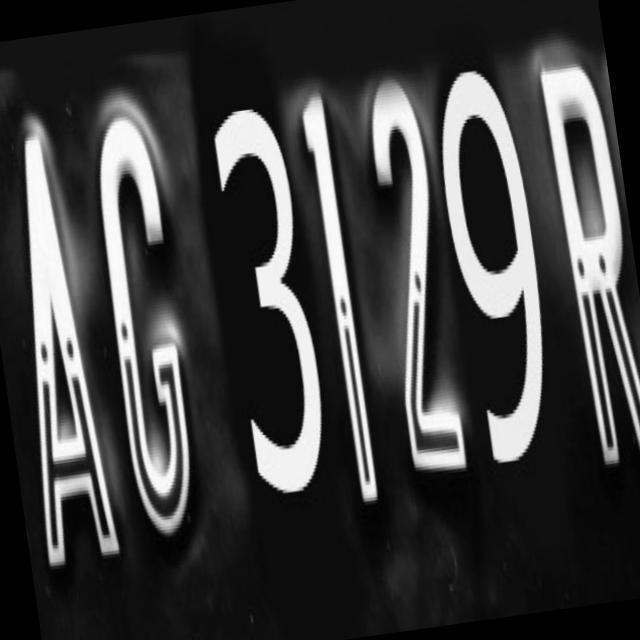1: (284, 77, 403, 519)
2: (356, 63, 476, 490)
3: (210, 92, 332, 513)
9: (426, 69, 551, 476)
A: (0, 108, 124, 566)
G: (96, 89, 212, 533)
R: (530, 52, 640, 469)
